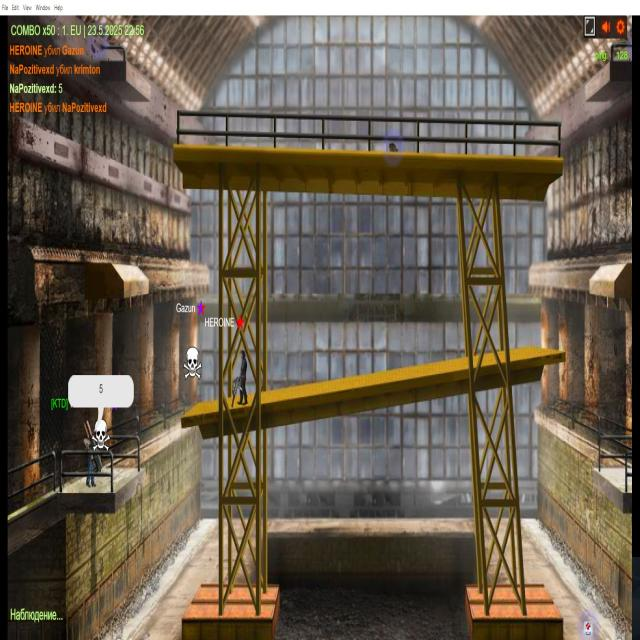enemy: (80, 416, 103, 490), (231, 346, 251, 412)
